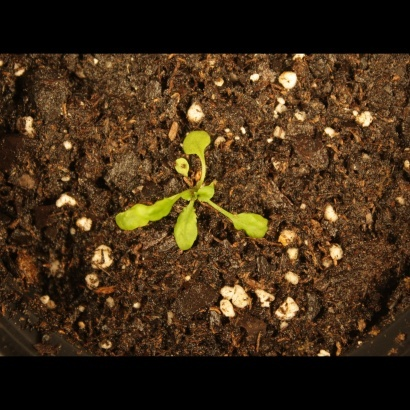leaf: (107, 192, 179, 232), (224, 208, 271, 245), (172, 202, 203, 253), (181, 126, 214, 158), (167, 155, 193, 180), (196, 183, 219, 206)
